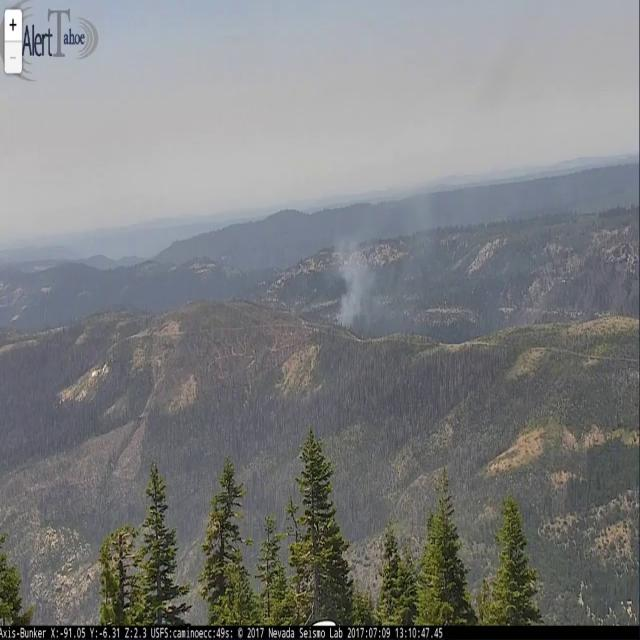smoke: (329, 153, 434, 334)
